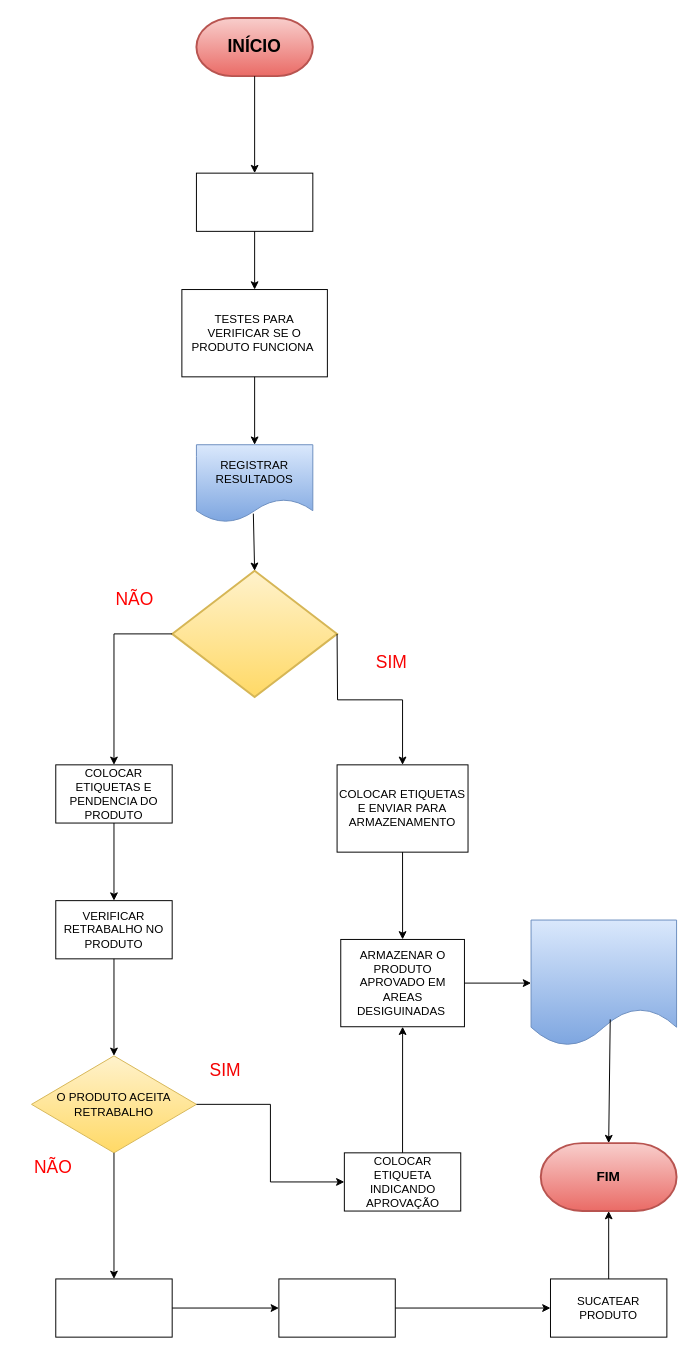
Some shapes in this 694 by 1354 pixel diagram are drawn without their labels. The centre of each missing label's shape, as x and y in pixels:
"COLOCAR ETIQUETA DE REPROVAÇÃO" goes at point 336,1307.
"PRODUTO ATENDE AS ESPECIFICAÇÕES?" goes at point 254,633.
"PRODUTO PARA INSPEÇÃO" goes at point 254,201.
"REPROVALO E SUCATEAR" goes at point 113,1307.
"RESGISTAR A SAIDAS DOS PRODUTOS DO PRCESSO DO CONTROLE DE QUALIDADE" goes at point 603,982.
